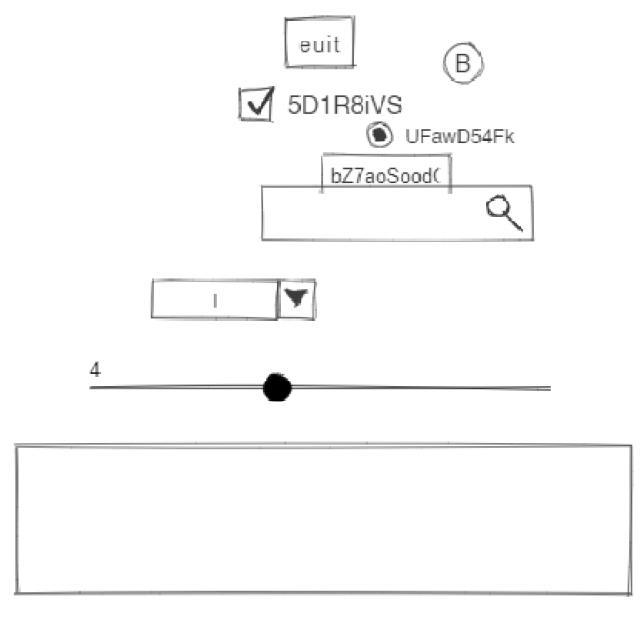button: (318, 149, 456, 196), (282, 11, 358, 73)
checkbox: (234, 84, 404, 124)
container: (12, 440, 637, 601)
icon-button: (441, 40, 487, 86)
radio: (364, 120, 516, 150)
search: (256, 182, 539, 245)
select: (147, 275, 320, 325)
slider: (107, 370, 555, 406)
